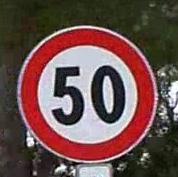limite 50: (14, 24, 159, 163)
